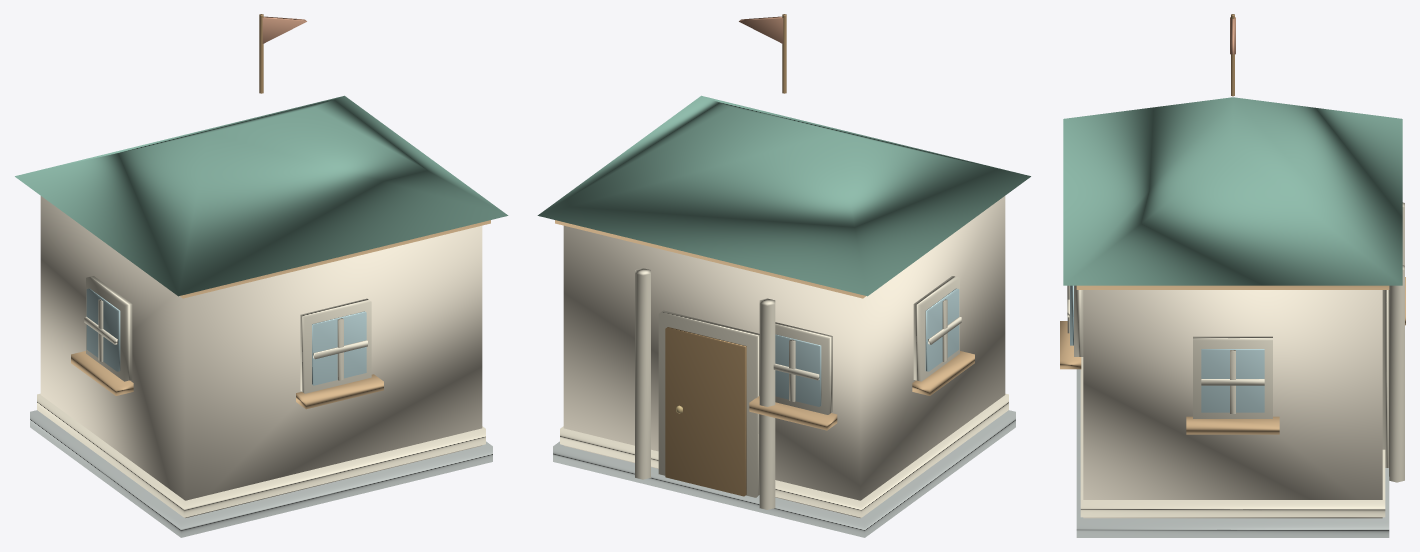
The model's file is townhall_low.glb.
3 views of the same model, side by side, from view 1: azimuth 30°, elevation 25°; view 2: azimuth 150°, elevation 25°; view 3: azimuth 270°, elevation 25° (orthographic). The views are drawn at different scales.
Bounding box in the file's own units: 3.62 × 4.42 × 3.12.
